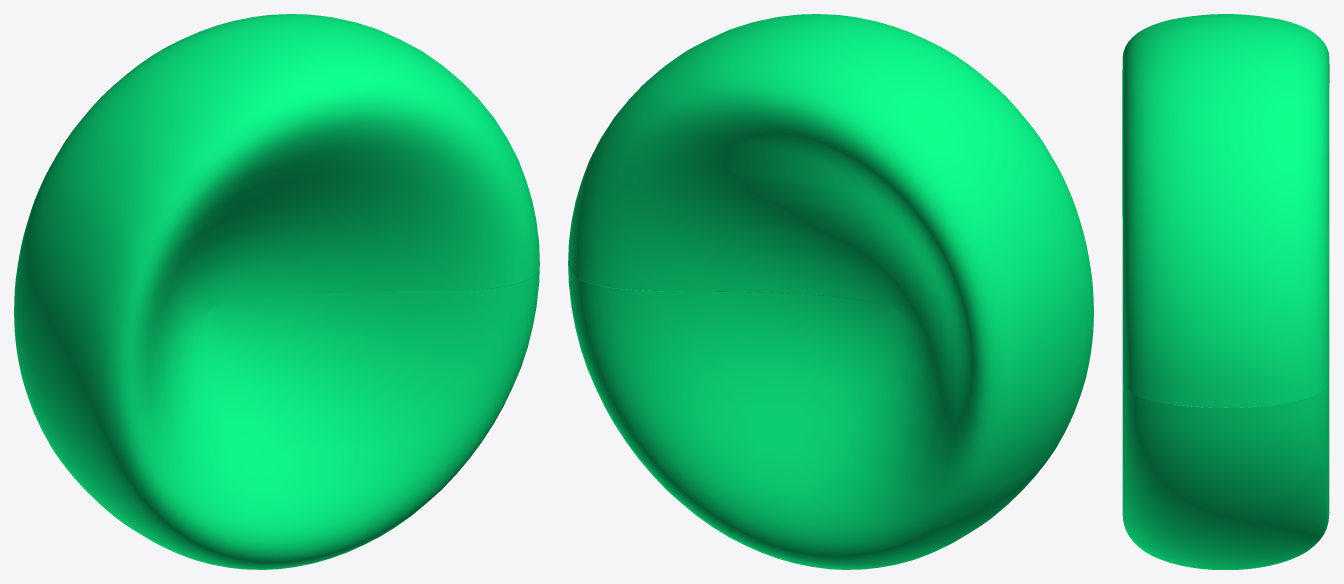
Rendered from metric_tensor_riemann_ar_universal.glb.
The picture shows the model from 3 angles, left to right: view 1: azimuth 30°, elevation 25°; view 2: azimuth 150°, elevation 25°; view 3: azimuth 270°, elevation 25°; orthographic projection.
Parts seen in each view (by area): view 1: metric_tensor_riemann_ar; view 2: metric_tensor_riemann_ar; view 3: metric_tensor_riemann_ar.
Boxes of the visible parts, bbox=[...] form: metric_tensor_riemann_ar: bbox=[14, 14, 539, 569]; metric_tensor_riemann_ar: bbox=[568, 14, 1093, 569]; metric_tensor_riemann_ar: bbox=[1122, 14, 1329, 569].
Size of the model in its own units: 0.9604 by 1 by 0.3701.
